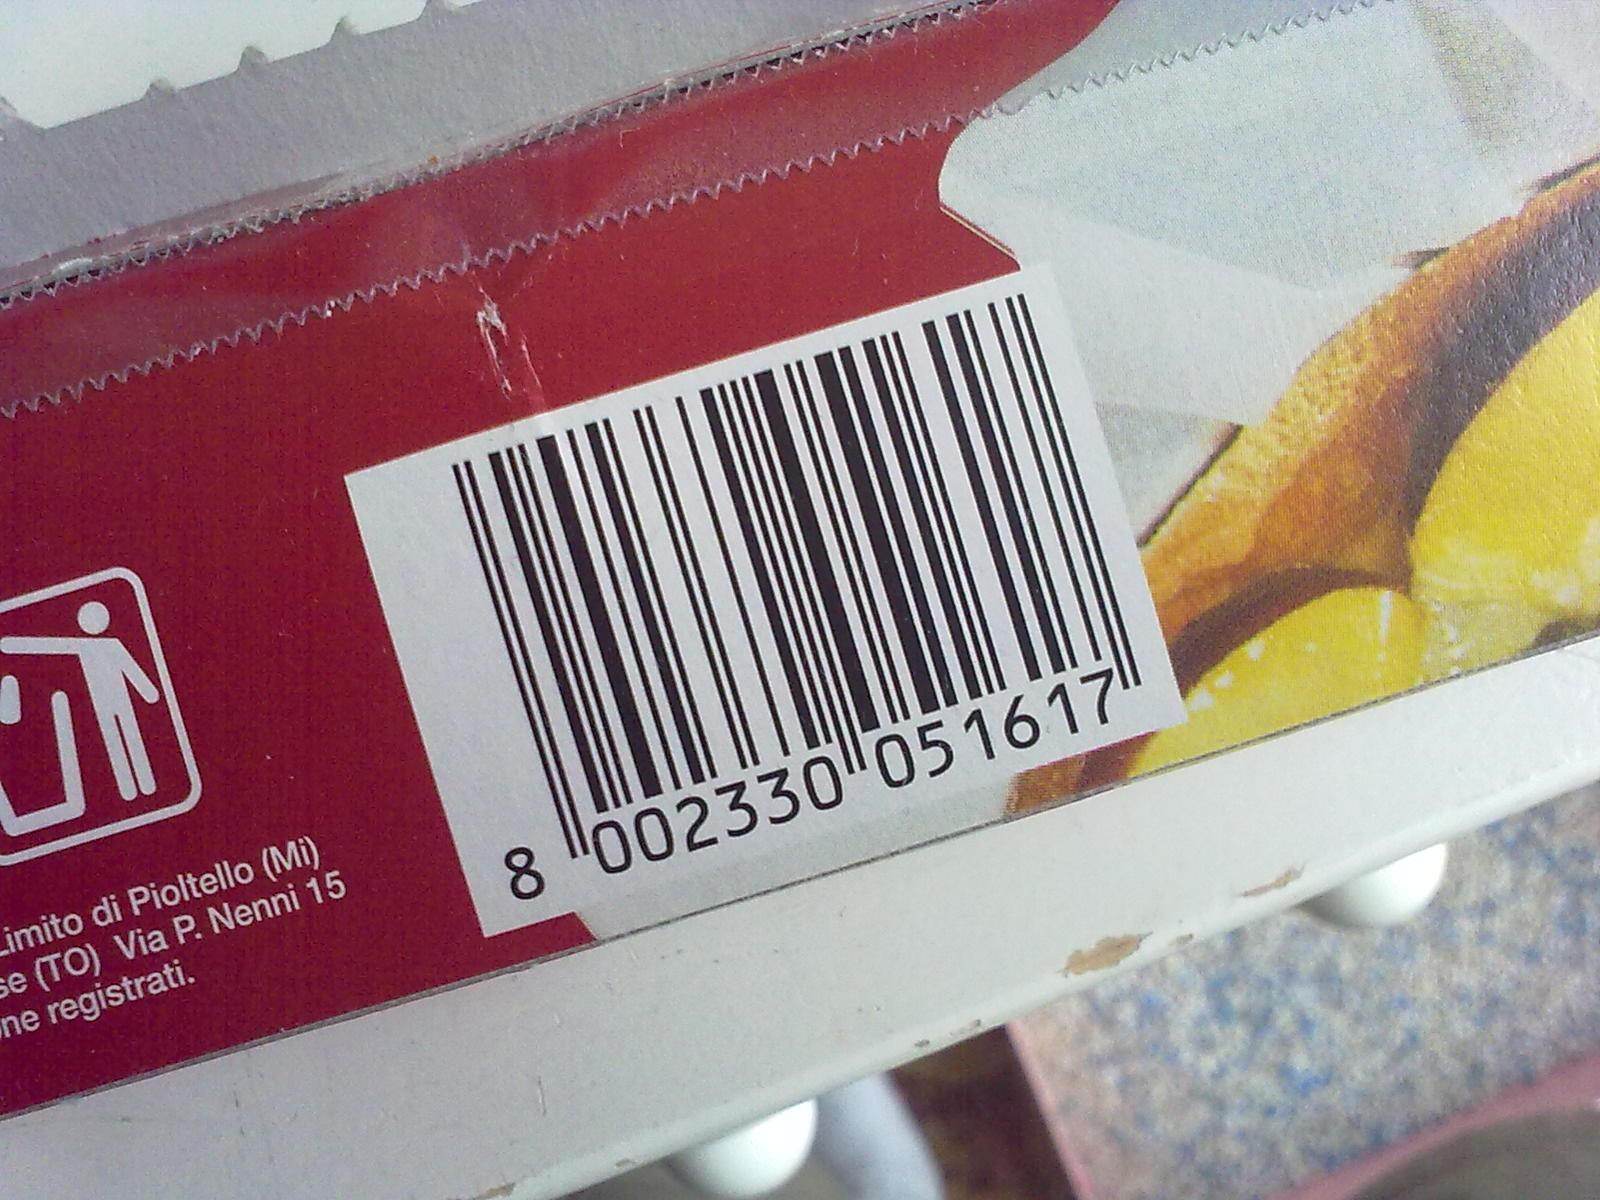Barcode: (441, 276, 1165, 913)
